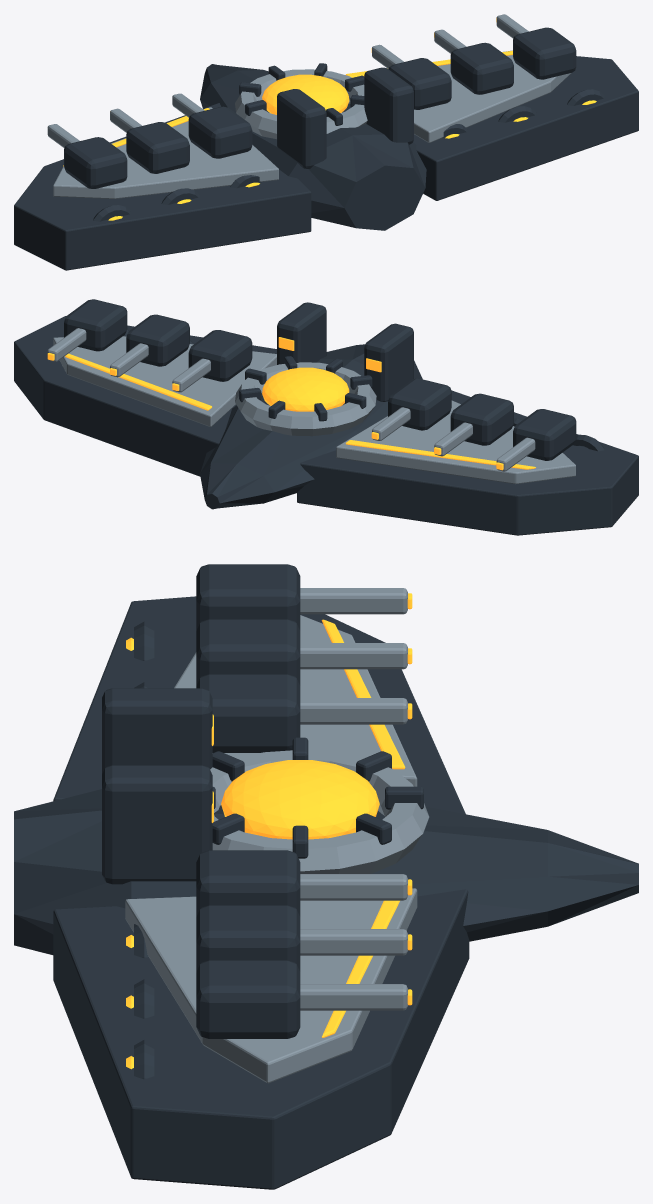
File: Nemesis.fbx
The picture shows the model from 3 angles, top to bottom: view 1: azimuth 30°, elevation 25°; view 2: azimuth 150°, elevation 25°; view 3: azimuth 270°, elevation 25°; orthographic projection. The views are drawn at different scales.
Visible parts, largest first — view 1: ND_HULL, ND_CORE; view 2: ND_HULL, ND_CORE; view 3: ND_HULL, ND_CORE.
Part boxes in pixels (x1,y1,x2,y2): ND_HULL: [14, 14, 638, 270]; ND_CORE: [262, 74, 349, 114]; ND_HULL: [14, 299, 638, 535]; ND_CORE: [262, 367, 349, 411]; ND_HULL: [14, 564, 638, 1189]; ND_CORE: [221, 760, 379, 839].
Bounding box in the file's own units: 959 × 183 × 480.
